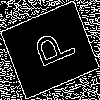P: (25, 25, 77, 73)
